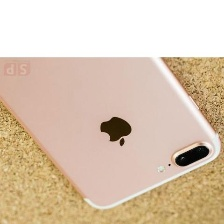phone: (0, 0, 222, 212)
